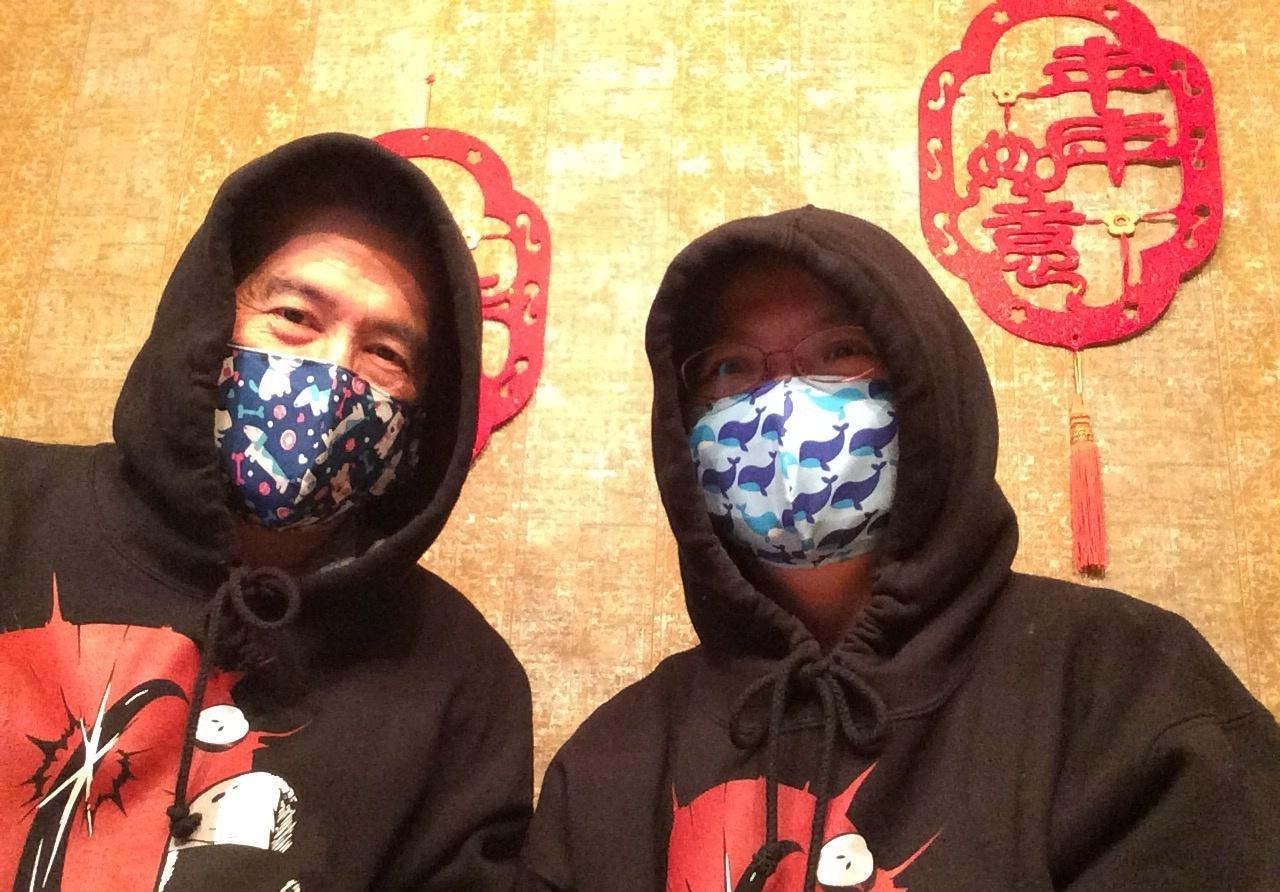Mask: (674, 320, 915, 560)
